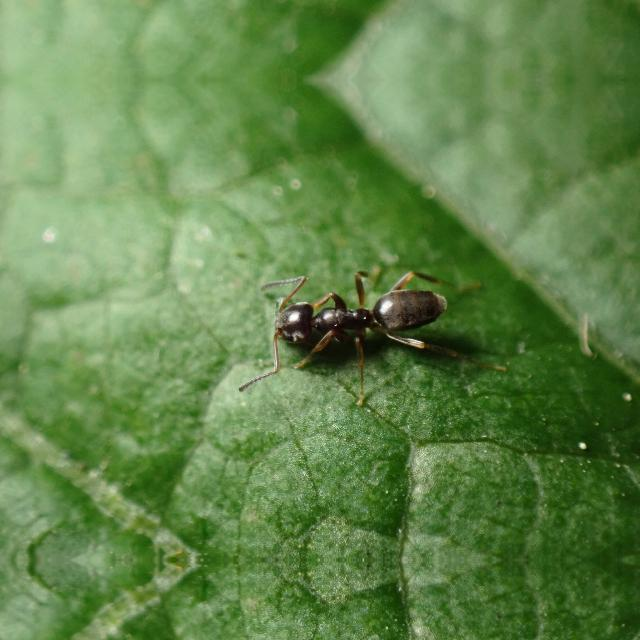Tapinoma: (245, 262, 467, 374)
